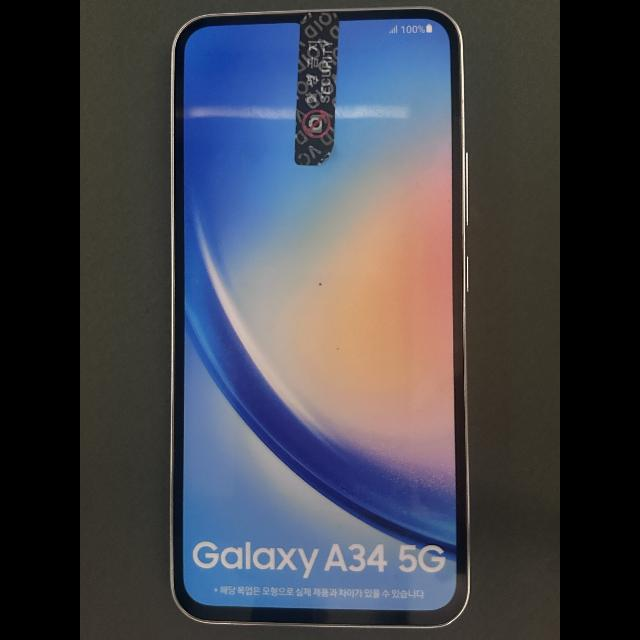phone: (169, 6, 471, 629)
sticker: (294, 12, 340, 166)
